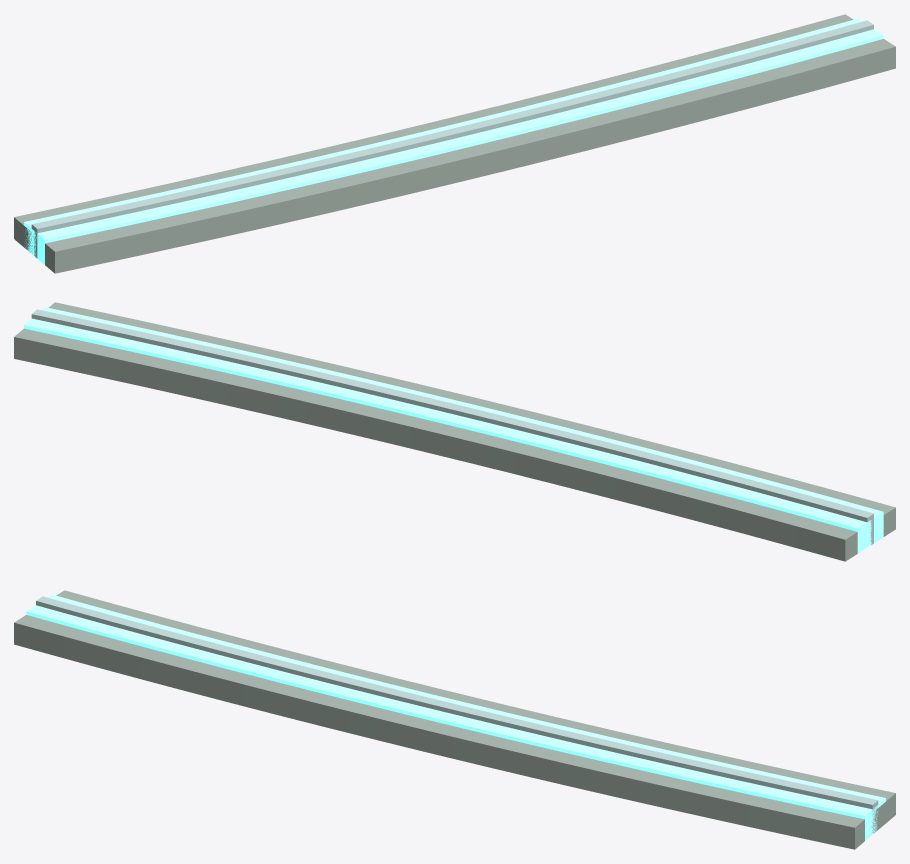
Rendered from s7-lf1-perimeter-g01-curve.glb.
3 renders of one model, top to bottom at view 1: azimuth 30°, elevation 25°; view 2: azimuth 150°, elevation 25°; view 3: azimuth 330°, elevation 25°, orthographic.
Visible parts, largest first — view 1: 000_waterproof_arc_housing, 001_cyan_led_arc_diffuser, 002_transparent_arc_lens; view 2: 000_waterproof_arc_housing, 001_cyan_led_arc_diffuser, 002_transparent_arc_lens; view 3: 000_waterproof_arc_housing, 001_cyan_led_arc_diffuser, 002_transparent_arc_lens.
Boxes of the visible parts, x1,y1,x2,y2 form: 000_waterproof_arc_housing: [14, 14, 895, 273]; 001_cyan_led_arc_diffuser: [24, 18, 883, 264]; 002_transparent_arc_lens: [31, 20, 873, 258]; 000_waterproof_arc_housing: [14, 302, 895, 561]; 001_cyan_led_arc_diffuser: [24, 307, 883, 553]; 002_transparent_arc_lens: [31, 309, 873, 544]; 000_waterproof_arc_housing: [14, 590, 895, 849]; 001_cyan_led_arc_diffuser: [26, 594, 885, 840]; 002_transparent_arc_lens: [36, 596, 878, 833].
Size of the model in its own units: 1.01 by 0.034 by 0.11.
